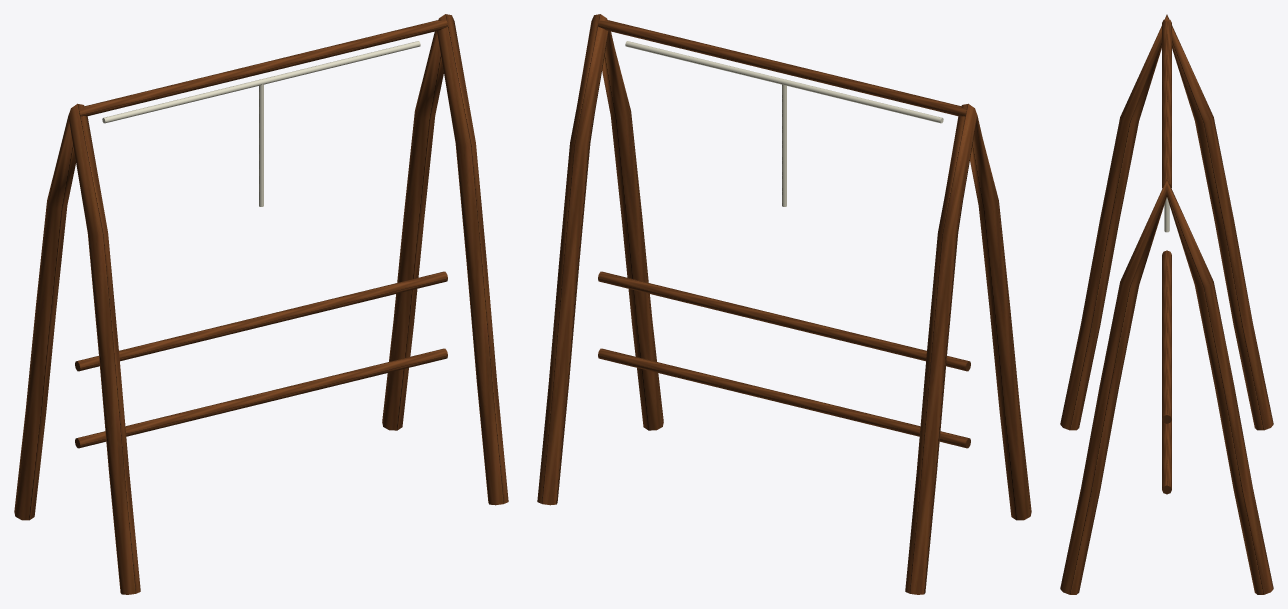
File: survival-food-and-preservation-fish-drying-frame-06b77c88__21805.glb
3 views of the same model, side by side, from view 1: azimuth 30°, elevation 25°; view 2: azimuth 150°, elevation 25°; view 3: azimuth 270°, elevation 25° (orthographic). The views are drawn at different scales.
Visible parts, largest first — view 1: fish-drying-frame; view 2: fish-drying-frame; view 3: fish-drying-frame.
Boxes of the visible parts, x1=… form: fish-drying-frame: x1=14, y1=14, x2=508, y2=594; fish-drying-frame: x1=537, y1=14, x2=1031, y2=594; fish-drying-frame: x1=1060, y1=14, x2=1273, y2=594.
Size of the model in its own units: 1.47 by 1.64 by 0.7684.
Materials: 2 (1 with a texture image).
